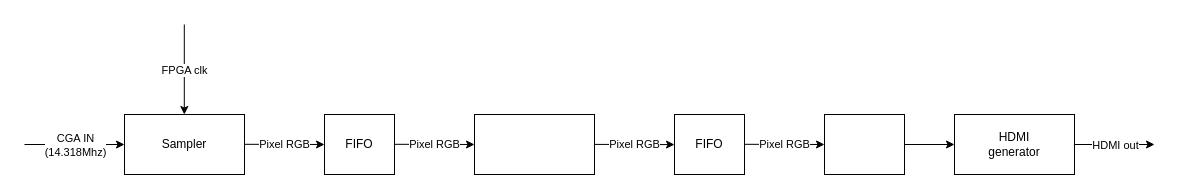
This 1180x192 diagram has some shape labels left out. The shapes that lost their labels are listed below. From the top down, each one's box as (x1, y1, x2, y2) in pixels, then its label:
(474, 114, 594, 174): VIDEO RAM (HyperRAM)
(824, 114, 904, 174): Upscaler
